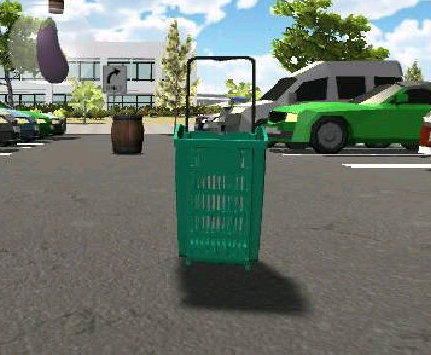arrow_right: (103, 66, 123, 85)
